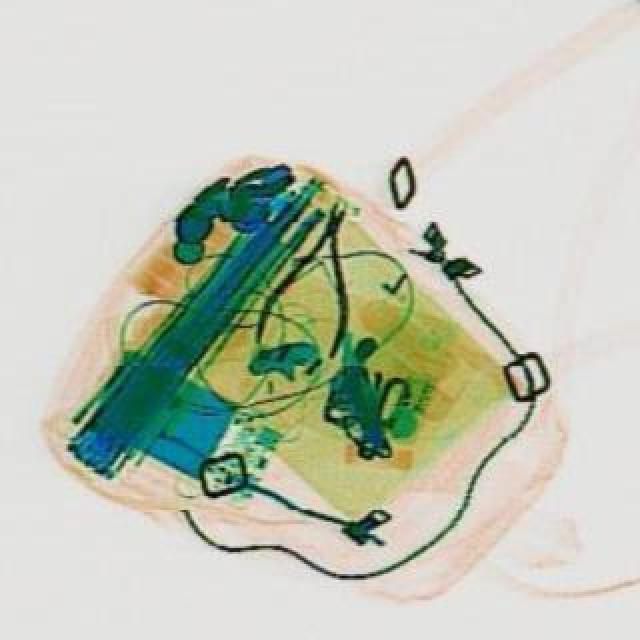wrench: (256, 192, 390, 368)
